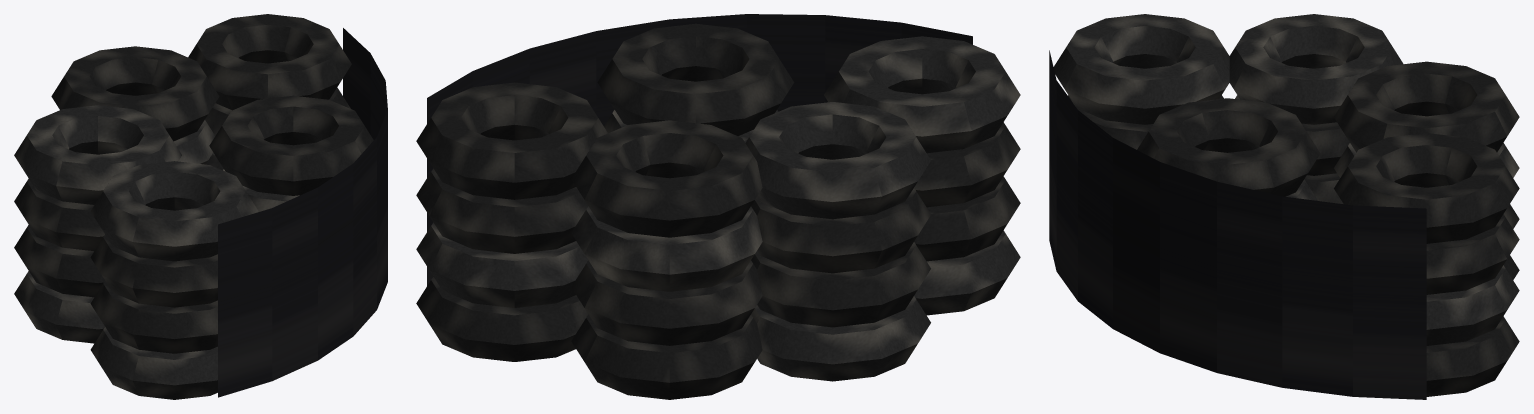
File: tires_corner.glb
3 views of the same model, side by side, from view 1: azimuth 30°, elevation 25°; view 2: azimuth 150°, elevation 25°; view 3: azimuth 270°, elevation 25° (orthographic). The views are drawn at different scales.
Visible parts, largest first — view 1: tires_corner; view 2: tires_corner; view 3: tires_corner.
Boxes of the visible parts, x1,y1,x2,y2 form: tires_corner: (14, 14, 387, 399); tires_corner: (416, 14, 1020, 399); tires_corner: (1049, 14, 1519, 399).
Size of the model in its own units: 1.67 by 0.7732 by 1.67.
3 materials, 3 textured.
